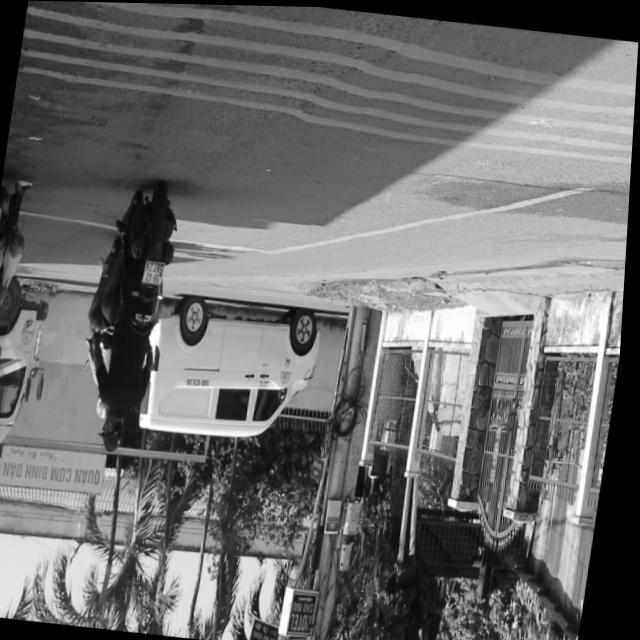licenseplate: (75, 177, 189, 458), (0, 169, 38, 419)
motorcyclist: (104, 411, 132, 453)
nohelmet: (144, 257, 168, 284), (0, 209, 3, 230)
